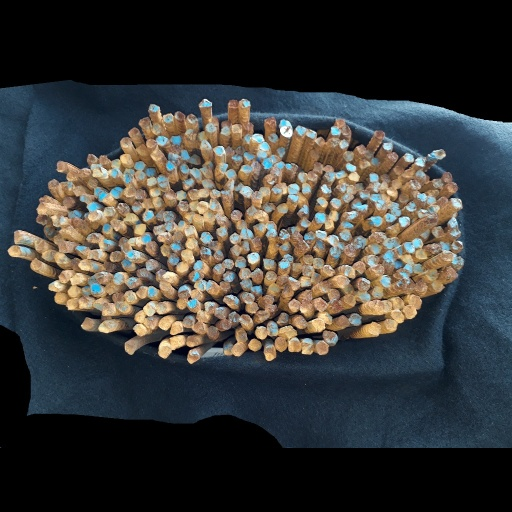dipstick: (279, 120, 293, 138), (443, 267, 458, 283), (279, 325, 296, 338), (98, 319, 114, 332), (215, 213, 230, 226), (206, 280, 219, 295), (402, 277, 414, 293), (368, 233, 385, 244), (403, 306, 417, 319), (391, 310, 405, 323), (299, 299, 312, 313), (294, 316, 308, 329), (415, 279, 427, 294), (251, 267, 263, 282), (223, 294, 238, 306), (383, 238, 399, 249), (102, 303, 115, 316), (425, 213, 438, 226), (296, 205, 309, 218), (248, 339, 261, 352), (158, 317, 171, 330), (170, 336, 183, 349), (187, 351, 200, 364), (110, 185, 122, 199), (42, 249, 56, 261), (452, 256, 464, 270), (431, 226, 445, 238), (409, 294, 421, 308), (312, 319, 326, 331), (330, 299, 342, 313), (288, 276, 300, 290), (214, 306, 228, 318), (216, 226, 228, 240), (206, 326, 218, 340), (180, 249, 194, 261), (155, 302, 169, 314), (88, 248, 103, 259), (48, 281, 63, 292), (228, 311, 239, 326), (66, 169, 79, 181), (368, 322, 381, 334), (386, 224, 399, 236), (354, 236, 367, 248), (345, 244, 358, 256), (314, 299, 327, 311), (275, 338, 287, 351), (255, 326, 267, 339), (209, 198, 221, 211), (200, 231, 213, 243), (81, 317, 93, 330), (133, 324, 146, 336), (144, 317, 157, 329), (158, 346, 171, 358), (182, 315, 194, 328), (8, 246, 22, 257), (78, 259, 92, 270), (79, 298, 93, 309), (415, 170, 426, 184), (336, 276, 350, 287), (231, 345, 245, 356), (215, 320, 229, 331), (85, 233, 102, 242), (72, 218, 84, 230), (111, 218, 123, 230), (54, 292, 66, 304), (67, 298, 79, 310), (385, 319, 397, 331), (392, 297, 404, 309), (382, 260, 394, 272), (371, 264, 383, 276), (316, 342, 328, 354), (320, 312, 332, 324), (322, 264, 334, 276), (301, 341, 313, 353), (238, 267, 250, 279), (196, 201, 208, 213), (145, 259, 157, 271), (188, 299, 200, 311), (63, 197, 76, 208), (157, 174, 168, 187), (116, 203, 129, 214), (76, 245, 89, 256), (59, 270, 70, 283), (70, 274, 83, 285), (285, 163, 298, 174), (357, 291, 370, 302), (251, 236, 262, 249), (229, 245, 242, 256), (268, 283, 281, 294), (267, 323, 278, 336), (205, 301, 216, 314), (185, 238, 198, 249), (146, 241, 157, 254), (122, 260, 135, 271), (104, 283, 117, 294), (94, 299, 108, 309), (261, 294, 275, 304), (256, 310, 270, 320), (189, 271, 203, 281), (137, 234, 151, 244), (126, 251, 140, 261), (406, 180, 421, 189), (208, 241, 223, 250), (52, 214, 63, 226), (60, 226, 72, 237), (124, 185, 135, 197), (139, 117, 151, 128), (131, 201, 142, 213), (103, 206, 115, 217), (142, 210, 154, 221), (134, 223, 146, 234), (67, 286, 79, 297), (184, 129, 196, 140), (240, 186, 252, 197), (403, 168, 415, 179), (403, 242, 415, 253), (426, 269, 438, 280), (373, 301, 384, 313), (357, 279, 369, 290), (349, 314, 361, 325), (323, 331, 335, 342), (344, 266, 355, 278), (330, 246, 341, 258), (288, 300, 300, 311), (235, 256, 246, 268), (265, 270, 276, 282), (277, 273, 288, 285), (236, 331, 247, 343), (213, 250, 224, 262), (223, 271, 235, 282), (219, 282, 231, 293), (193, 260, 205, 271), (200, 247, 211, 259), (209, 199, 220, 211), (164, 189, 176, 200), (184, 224, 196, 235), (160, 244, 171, 256), (110, 251, 122, 262), (186, 335, 197, 347), (107, 168, 120, 178), (35, 214, 48, 224), (451, 241, 464, 251), (443, 250, 453, 263), (415, 249, 428, 259), (401, 254, 414, 264), (383, 250, 396, 260), (338, 315, 348, 328), (340, 231, 353, 241), (319, 281, 332, 291), (239, 315, 252, 325), (245, 303, 258, 313), (116, 302, 129, 312), (170, 324, 183, 334), (341, 211, 357, 219), (60, 181, 74, 190), (79, 193, 93, 202), (157, 233, 171, 242), (223, 342, 232, 356), (74, 185, 85, 196), (88, 211, 99, 222), (120, 137, 131, 148), (165, 160, 176, 171), (94, 272, 105, 283), (91, 283, 102, 294), (214, 145, 225, 156), (265, 117, 276, 128), (434, 149, 445, 160), (351, 198, 362, 209), (451, 198, 462, 209), (412, 238, 423, 249), (355, 262, 366, 273), (328, 210, 339, 221), (289, 340, 300, 351), (264, 348, 275, 359), (304, 231, 315, 242), (268, 242, 279, 253), (248, 252, 259, 263), (291, 262, 302, 273), (243, 293, 254, 304), (197, 310, 208, 321), (204, 211, 215, 222), (125, 291, 136, 302), (134, 311, 145, 322), (35, 203, 47, 213), (31, 258, 41, 270), (151, 150, 163, 160), (149, 187, 161, 197), (123, 213, 138, 221), (98, 240, 110, 250), (170, 135, 182, 145), (182, 179, 194, 189), (288, 184, 300, 194), (348, 172, 360, 182), (375, 200, 387, 210), (370, 216, 382, 226), (430, 243, 442, 253), (432, 281, 444, 291), (403, 264, 413, 276), (369, 243, 381, 253), (328, 289, 340, 299), (302, 265, 314, 275), (298, 240, 310, 250), (282, 287, 294, 297), (250, 285, 262, 295), (240, 279, 252, 289), (213, 264, 225, 274), (193, 323, 205, 333), (163, 211, 175, 221), (153, 224, 165, 234), (164, 271, 176, 281), (178, 289, 190, 299), (148, 285, 158, 297), (137, 268, 149, 278), (103, 262, 115, 272), (125, 278, 137, 288), (124, 342, 134, 354), (70, 258, 79, 271), (201, 179, 214, 188), (299, 290, 312, 299), (263, 202, 276, 211), (254, 211, 267, 220), (120, 244, 133, 253), (67, 210, 81, 218), (47, 179, 58, 189), (122, 173, 133, 183), (134, 170, 145, 180), (44, 226, 55, 236), (34, 240, 45, 250), (97, 192, 108, 202), (146, 167, 157, 177), (128, 127, 139, 137), (151, 123, 161, 134), (156, 136, 167, 146), (136, 144, 146, 155), (142, 198, 152, 209), (87, 275, 98, 285), (81, 286, 91, 297), (189, 167, 200, 177), (191, 154, 201, 165), (216, 163, 227, 173), (251, 191, 262, 201), (306, 128, 316, 139), (317, 197, 328, 207), (331, 197, 341, 208), (432, 179, 443, 189), (406, 201, 417, 211), (441, 240, 451, 251), (380, 275, 390, 286), (372, 287, 383, 297), (328, 235, 338, 246), (314, 241, 325, 251), (278, 202, 288, 213), (279, 229, 290, 239), (263, 258, 274, 268), (266, 229, 276, 240), (229, 232, 239, 243), (164, 221, 175, 231), (173, 231, 183, 242), (191, 289, 202, 299), (113, 274, 124, 284), (133, 161, 145, 170), (55, 253, 67, 262), (231, 155, 243, 164), (224, 179, 233, 191), (322, 173, 334, 182), (279, 242, 291, 251), (230, 210, 242, 219), (222, 259, 234, 268), (14, 230, 22, 243), (198, 99, 211, 107), (251, 133, 264, 141), (384, 214, 397, 222), (340, 221, 353, 229), (110, 158, 120, 168), (135, 189, 145, 199), (146, 138, 156, 148), (187, 114, 197, 124), (262, 158, 272, 168), (188, 189, 198, 199), (271, 183, 281, 193), (295, 125, 305, 135), (343, 150, 353, 160), (309, 149, 319, 159), (307, 171, 317, 181), (355, 144, 365, 154), (369, 172, 379, 182), (399, 216, 409, 226), (345, 295, 355, 305), (313, 258, 323, 268), (316, 230, 326, 240), (291, 231, 301, 241), (176, 190, 186, 200), (177, 299, 187, 309), (58, 243, 69, 252), (148, 103, 159, 112), (239, 99, 250, 108), (244, 151, 255, 160), (241, 164, 252, 173), (252, 161, 261, 172), (265, 174, 276, 183), (268, 133, 279, 142), (328, 137, 339, 146), (336, 170, 347, 179), (321, 184, 332, 193), (343, 194, 354, 203), (387, 152, 398, 161), (360, 190, 371, 199), (368, 183, 379, 192), (414, 157, 425, 166), (450, 229, 461, 238), (344, 285, 355, 294), (300, 277, 311, 286), (265, 220, 276, 229), (241, 229, 252, 238), (194, 281, 205, 290), (155, 210, 164, 221), (169, 253, 178, 264), (177, 262, 188, 271), (159, 281, 170, 290), (168, 153, 180, 161), (427, 189, 439, 197), (428, 205, 440, 213), (185, 211, 193, 223), (112, 293, 124, 301), (56, 161, 65, 171), (93, 167, 103, 176), (146, 177, 156, 186), (102, 224, 112, 233), (163, 113, 173, 122), (228, 99, 238, 108), (232, 124, 242, 133), (181, 149, 190, 159), (226, 169, 236, 178), (221, 190, 231, 199), (260, 186, 270, 195), (298, 172, 307, 182), (341, 125, 351, 134), (314, 162, 323, 172), (336, 183, 346, 192), (346, 184, 355, 194), (374, 130, 384, 139), (359, 159, 369, 168), (393, 166, 403, 175), (404, 153, 414, 162), (355, 182, 365, 191), (391, 179, 401, 188), (443, 172, 452, 182), (447, 183, 457, 192), (391, 207, 401, 216), (448, 218, 457, 228), (414, 263, 423, 273), (315, 213, 325, 222), (312, 273, 321, 283), (303, 255, 313, 264), (193, 214, 203, 223), (171, 242, 181, 251), (79, 168, 90, 176), (120, 154, 131, 162), (87, 178, 98, 186), (221, 120, 232, 128), (210, 189, 221, 197), (323, 164, 334, 172), (302, 183, 310, 194), (368, 255, 379, 263), (241, 241, 249, 252), (118, 237, 129, 245), (157, 269, 165, 280), (200, 166, 212, 173), (384, 300, 391, 312), (264, 305, 278, 311), (54, 234, 63, 243), (153, 197, 162, 206), (175, 111, 184, 120), (198, 131, 207, 140), (225, 146, 234, 155), (277, 147, 286, 156), (383, 141, 392, 150), (364, 150, 373, 159), (381, 173, 390, 182), (189, 201, 198, 210), (179, 201, 188, 210), (87, 202, 97, 210), (205, 124, 215, 132), (208, 117, 218, 125), (236, 145, 244, 155), (259, 142, 269, 150), (288, 194, 298, 202), (346, 163, 356, 171), (379, 182, 387, 192), (387, 187, 397, 195), (426, 196, 436, 204), (437, 197, 447, 205), (358, 204, 368, 212), (300, 218, 310, 226), (279, 259, 289, 267), (236, 220, 246, 228), (387, 201, 398, 208), (177, 220, 184, 231), (86, 154, 95, 162), (99, 155, 107, 164), (221, 127, 230, 135), (180, 163, 188, 172), (271, 167, 280, 175), (199, 189, 208, 197), (281, 182, 287, 194), (316, 137, 325, 145), (331, 126, 339, 135), (340, 139, 348, 148), (399, 193, 408, 201), (418, 209, 427, 217), (325, 219, 333, 228), (284, 254, 293, 262), (247, 207, 256, 215), (124, 167, 134, 174), (40, 195, 50, 202), (244, 134, 251, 144), (271, 155, 281, 162), (370, 194, 380, 201), (393, 261, 403, 268), (336, 118, 344, 126), (372, 158, 380, 166), (418, 193, 426, 201), (235, 182, 243, 190), (203, 160, 212, 167), (298, 194, 305, 203), (129, 238, 136, 247), (257, 151, 267, 157), (274, 162, 284, 168), (290, 226, 300, 232), (410, 191, 419, 197), (380, 193, 389, 199), (95, 186, 100, 194)
